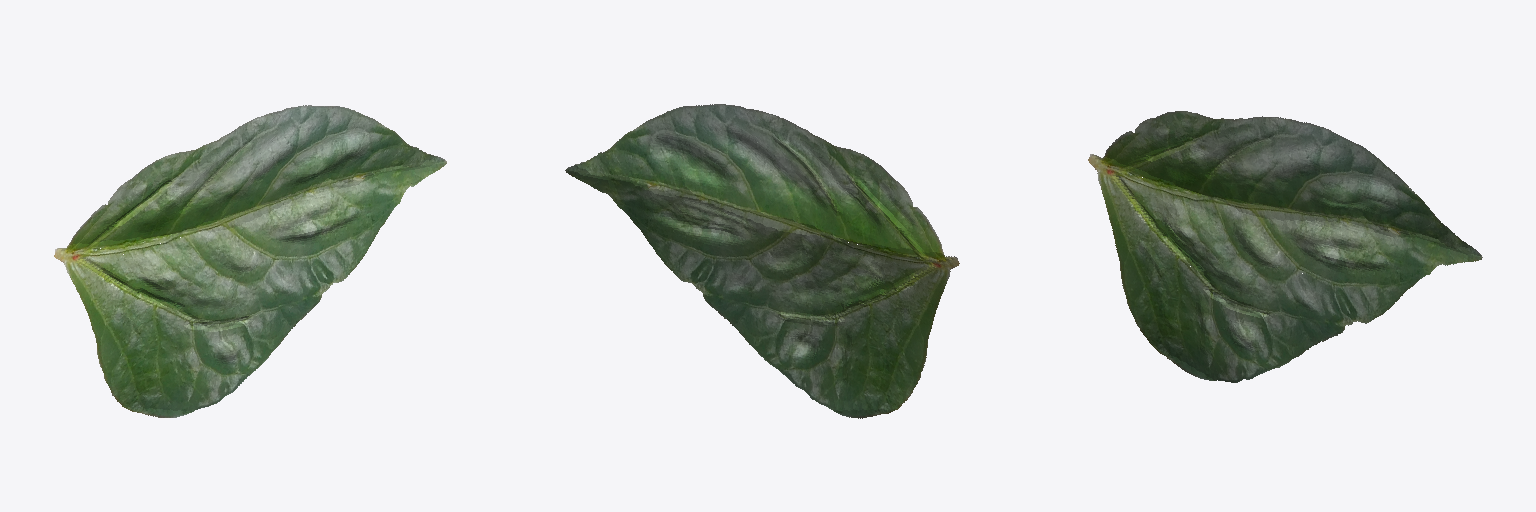
The picture shows the model from 3 angles: view 1: azimuth 30°, elevation 25°; view 2: azimuth 150°, elevation 25°; view 3: azimuth 330°, elevation 25°; orthographic projection.
Visible parts, largest first — view 1: leaf, veins; view 2: leaf, veins; view 3: leaf, veins.
Boxes of the visible parts, x1,y1,x2,y2 form: leaf: [64, 105, 446, 417]; veins: [54, 184, 302, 325]; leaf: [565, 104, 950, 418]; veins: [721, 185, 959, 322]; leaf: [1097, 111, 1482, 382]; veins: [1088, 140, 1326, 300].
Bounding box in the file's own units: 2.01 × 1.39 × 0.1108.
1 materials, 1 textured.